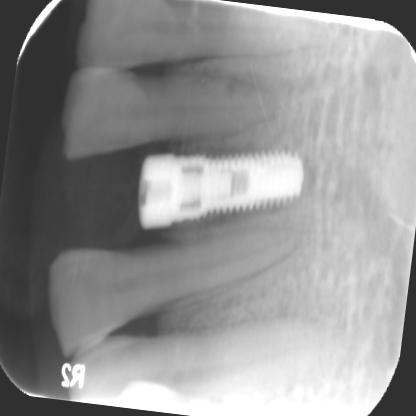Bego: (175, 143, 306, 236)
